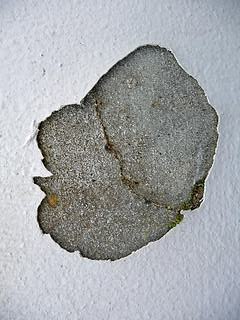Crack: (93, 87, 179, 213)
Spalling: (31, 43, 220, 262)
